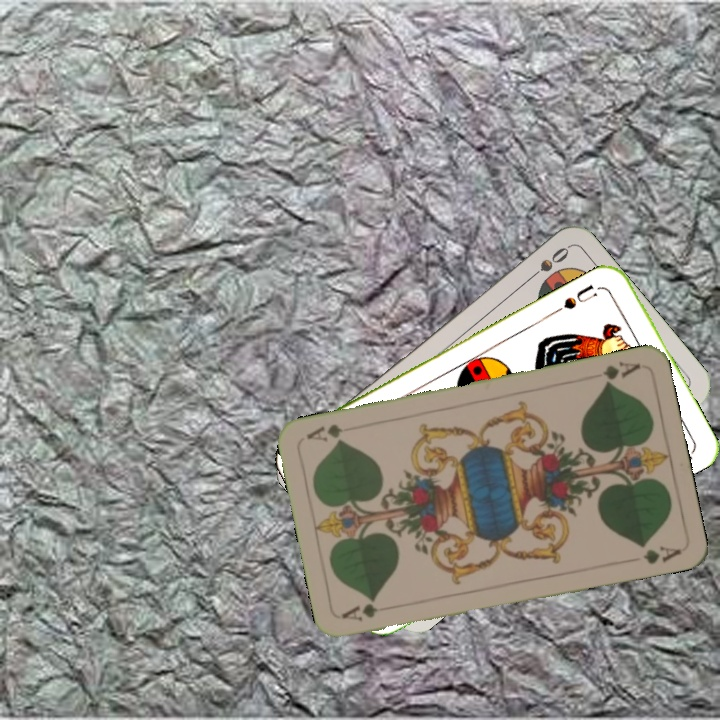GA: (338, 599, 397, 625), (598, 357, 643, 388)
SO: (521, 242, 572, 285)
SU: (559, 280, 600, 312)
